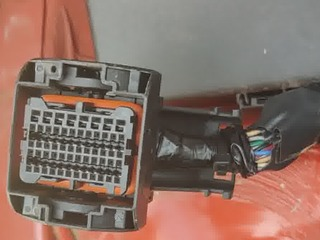connector: (6, 58, 161, 232)
